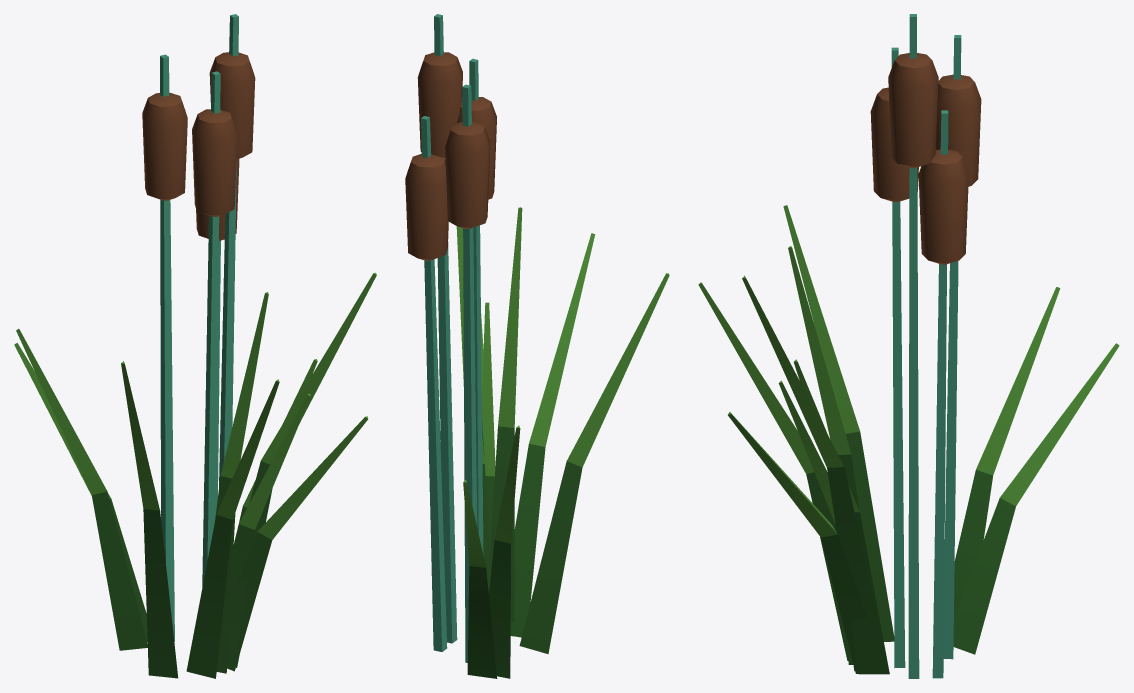
The model's file is Cattails.fbx.
3 views of the same model, side by side, from view 1: azimuth 30°, elevation 25°; view 2: azimuth 150°, elevation 25°; view 3: azimuth 270°, elevation 25° (orthographic). The views are drawn at different scales.
Parts seen in each view (by area): view 1: Cattails; view 2: Cattails; view 3: Cattails.
Part boxes in pixels (box(x1,y1,x2,y2)): Cattails: box(14, 14, 376, 678); Cattails: box(405, 14, 669, 678); Cattails: box(698, 14, 1119, 678).
Bounding box in the file's own units: 0.462 × 1.18 × 0.6682.
1 material, 1 textured.
